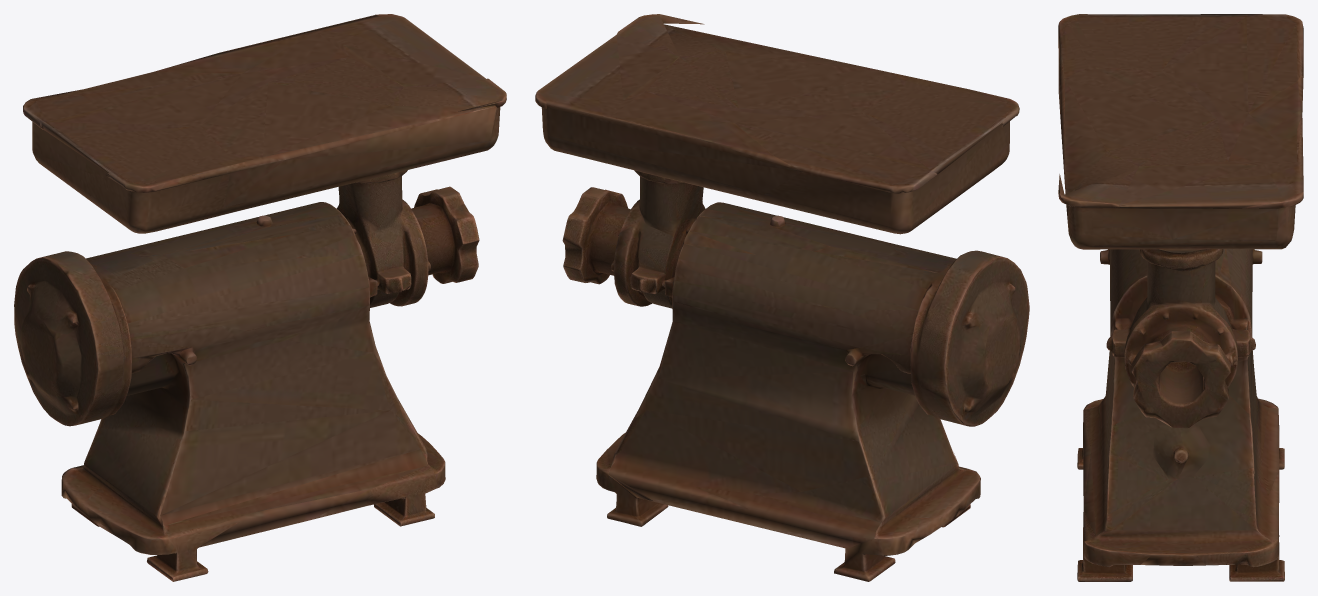
Rendered from grinder.glb.
3 views of the same model, side by side, from view 1: azimuth 30°, elevation 25°; view 2: azimuth 150°, elevation 25°; view 3: azimuth 270°, elevation 25° (orthographic).
Parts seen in each view (by area): view 1: Mesh_0; view 2: Mesh_0; view 3: Mesh_0.
Part boxes in pixels (x1,y1,x2,y2): Mesh_0: (14,14,506,581); Mesh_0: (535,14,1029,581); Mesh_0: (1058,14,1303,581).
Size of the model in its own units: 1.9 by 1.79 by 0.955.
1 material, 1 textured.
